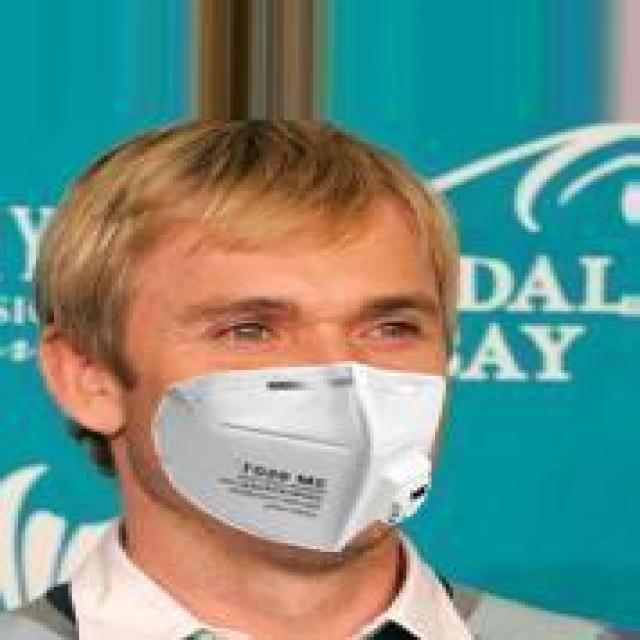mask: (36, 44, 503, 578)
